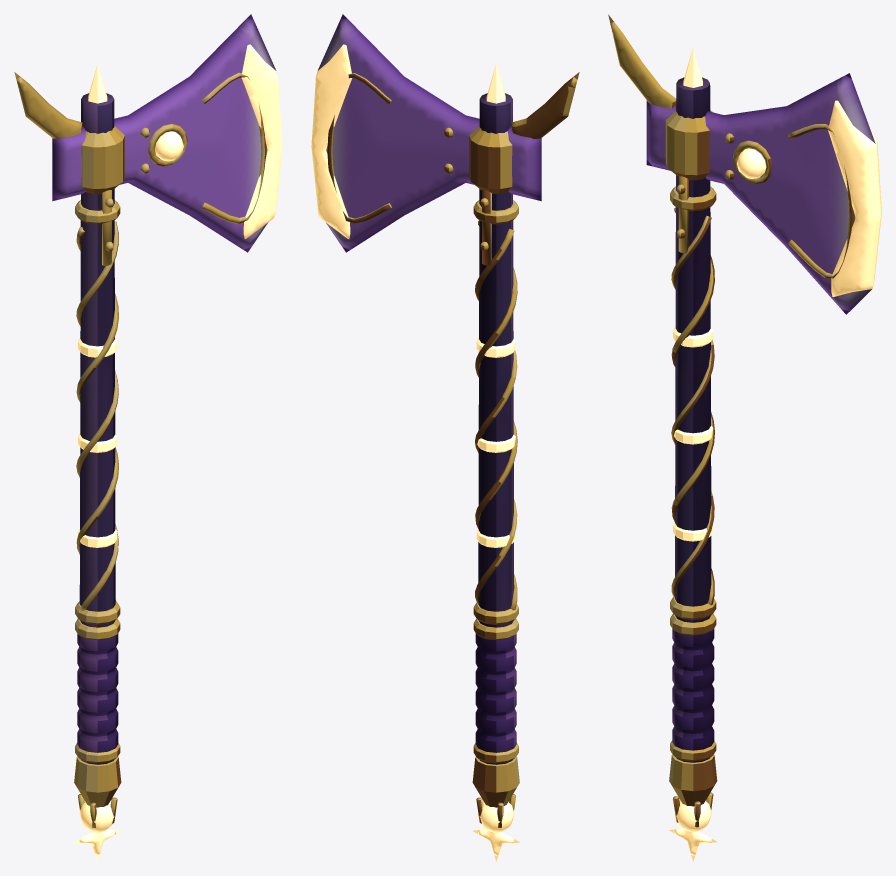
Rendered from tl_axe_astral.glb.
3 views of the same model, side by side, from view 1: azimuth 30°, elevation 25°; view 2: azimuth 150°, elevation 25°; view 3: azimuth 330°, elevation 25° (orthographic). The views are drawn at different scales.
Visible parts, largest first — view 1: Weapon; view 2: Weapon; view 3: Weapon.
Part boxes in pixels (x1,y1,x2,y2): Weapon: [14, 14, 282, 861]; Weapon: [311, 14, 579, 861]; Weapon: [608, 14, 881, 861].
Size of the model in its own units: 0.352 by 1.02 by 0.0635.
